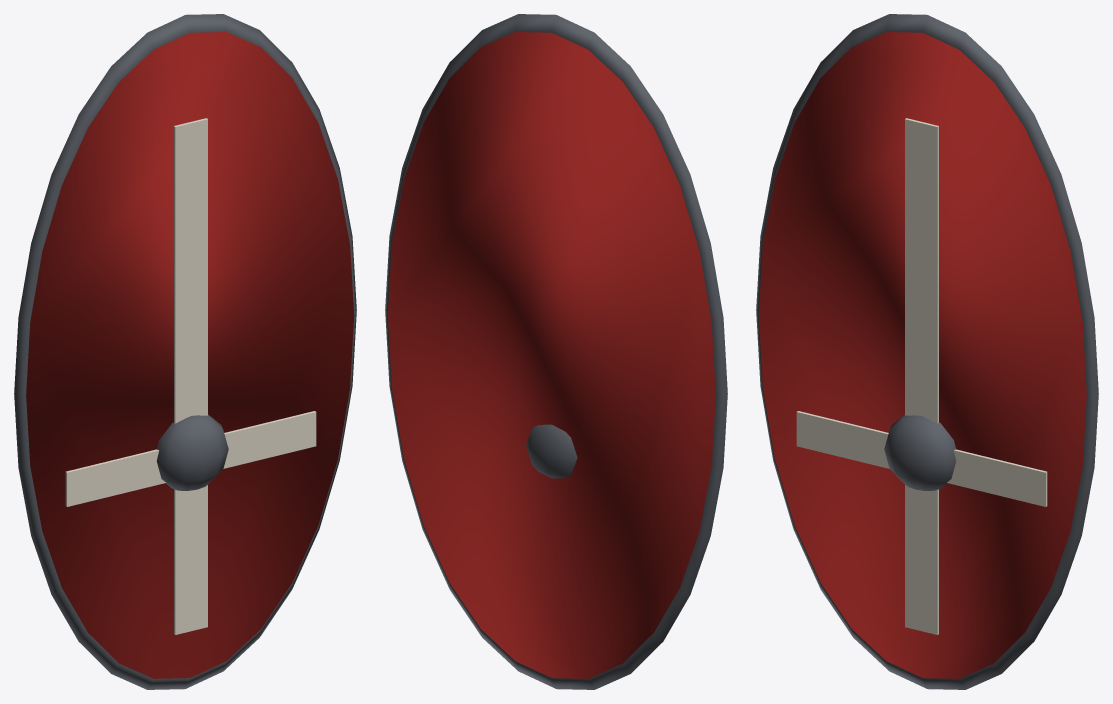
The model's file is Skoutarion.gltf.
3 views of the same model, side by side, from view 1: azimuth 30°, elevation 25°; view 2: azimuth 150°, elevation 25°; view 3: azimuth 330°, elevation 25° (orthographic).
Visible parts, largest first — view 1: Cylinder; view 2: Cylinder; view 3: Cylinder.
Boxes of the visible parts, x1,y1,x2,y2 form: Cylinder: (14,14,356,689); Cylinder: (385,14,727,689); Cylinder: (756,14,1098,689).
Bounding box in the file's own units: 0.5225 × 0.9823 × 0.077.
